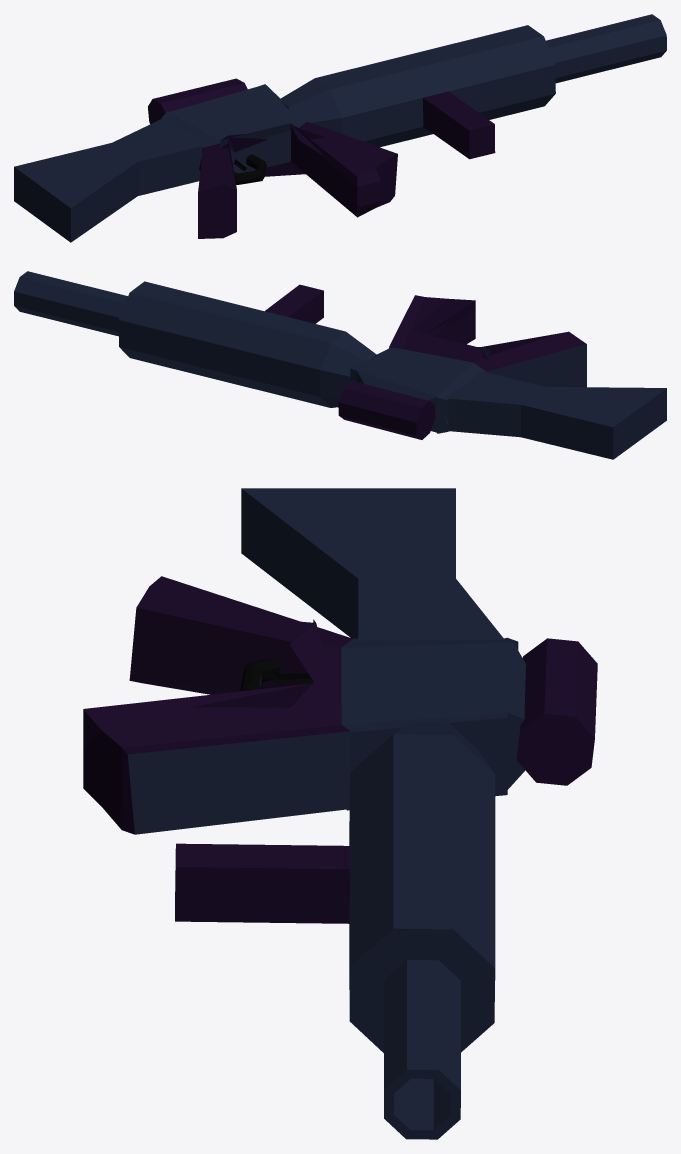
File: оружие.fbx
The picture shows the model from 3 angles, top to bottom: view 1: azimuth 30°, elevation 25°; view 2: azimuth 150°, elevation 25°; view 3: azimuth 270°, elevation 25°; orthographic projection. The views are drawn at different scales.
Parts seen in each view (by area): view 1: Цилиндр; view 2: Цилиндр; view 3: Цилиндр.
Part boxes in pixels (x1,y1,x2,y2): Цилиндр: (14,14,666,242); Цилиндр: (14,271,666,459); Цилиндр: (83,488,597,1139).
Bounding box in the file's own units: 1557 × 167 × 580.
